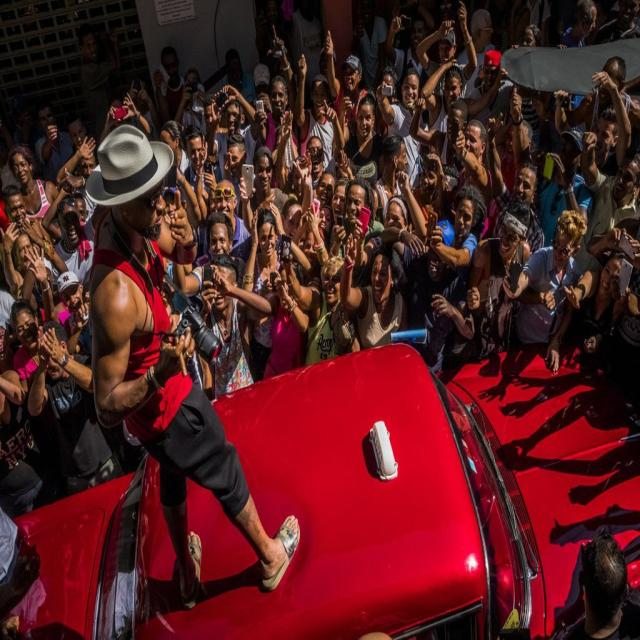body: (86, 124, 304, 614), (26, 318, 125, 498), (500, 207, 588, 402), (378, 216, 476, 380), (464, 200, 556, 360), (140, 155, 206, 358), (240, 202, 312, 384), (276, 155, 370, 281), (198, 255, 273, 401), (560, 246, 632, 382), (351, 168, 429, 290), (577, 129, 640, 280), (552, 532, 640, 640), (280, 254, 362, 368), (478, 86, 534, 244), (419, 57, 509, 154), (552, 70, 631, 176), (338, 230, 406, 350), (9, 244, 62, 396), (0, 368, 52, 516), (534, 123, 592, 251), (273, 95, 346, 195), (250, 262, 310, 381), (171, 212, 247, 304), (552, 55, 640, 134), (376, 68, 430, 196), (71, 18, 120, 156), (328, 175, 387, 289), (425, 182, 488, 288), (487, 108, 534, 249), (369, 131, 429, 240), (198, 45, 271, 133), (415, 0, 478, 100), (294, 49, 338, 184), (253, 73, 301, 188), (160, 269, 204, 392), (207, 81, 262, 179), (40, 166, 109, 243), (49, 196, 99, 300), (0, 219, 53, 311), (0, 182, 54, 272), (238, 144, 290, 236), (250, 22, 300, 117), (337, 91, 388, 184), (510, 21, 544, 156), (408, 96, 468, 172), (323, 28, 369, 127), (384, 10, 434, 100), (6, 144, 61, 225), (464, 48, 515, 132), (453, 117, 493, 217), (490, 1, 582, 44), (289, 0, 324, 109), (585, 203, 640, 272), (204, 178, 252, 255), (388, 0, 476, 42), (456, 9, 495, 100), (349, 0, 389, 86), (34, 103, 75, 186), (222, 130, 257, 220), (0, 98, 37, 183), (180, 125, 223, 198), (418, 151, 446, 258), (152, 43, 187, 128), (98, 90, 151, 146), (254, 0, 290, 82), (317, 41, 347, 139), (0, 505, 21, 640), (56, 270, 90, 351), (57, 134, 100, 197), (410, 152, 446, 224), (173, 67, 208, 138), (128, 68, 161, 142), (158, 118, 192, 188), (373, 64, 402, 142), (593, 0, 640, 46), (222, 132, 248, 211), (194, 135, 216, 228), (350, 607, 411, 640), (560, 0, 600, 50), (300, 166, 338, 216), (64, 111, 89, 165), (157, 181, 179, 230), (333, 148, 358, 183), (0, 288, 15, 330), (0, 315, 11, 370)
